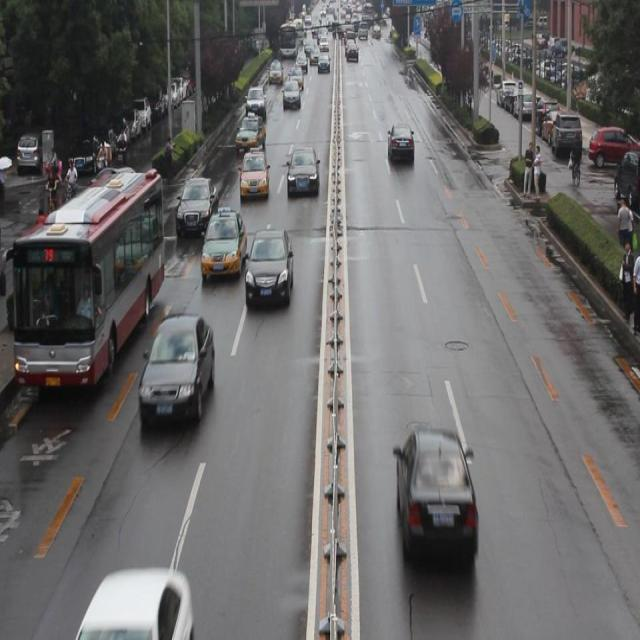car: (393, 427, 478, 564), (136, 314, 215, 430), (244, 228, 294, 312), (201, 208, 247, 283), (90, 167, 153, 210), (177, 174, 218, 237), (286, 146, 319, 196), (240, 150, 269, 198), (235, 111, 266, 152), (388, 121, 413, 166), (245, 86, 267, 118), (281, 82, 301, 111)
van: (1, 166, 164, 393)
